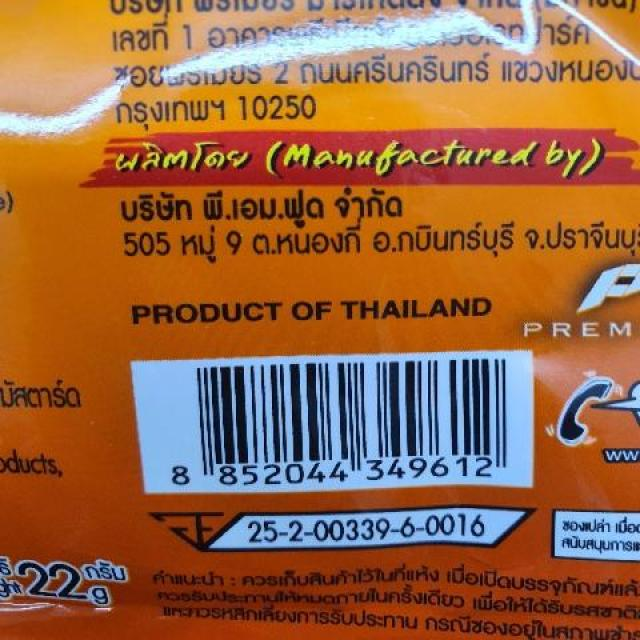Barcode: (147, 349, 532, 491)
